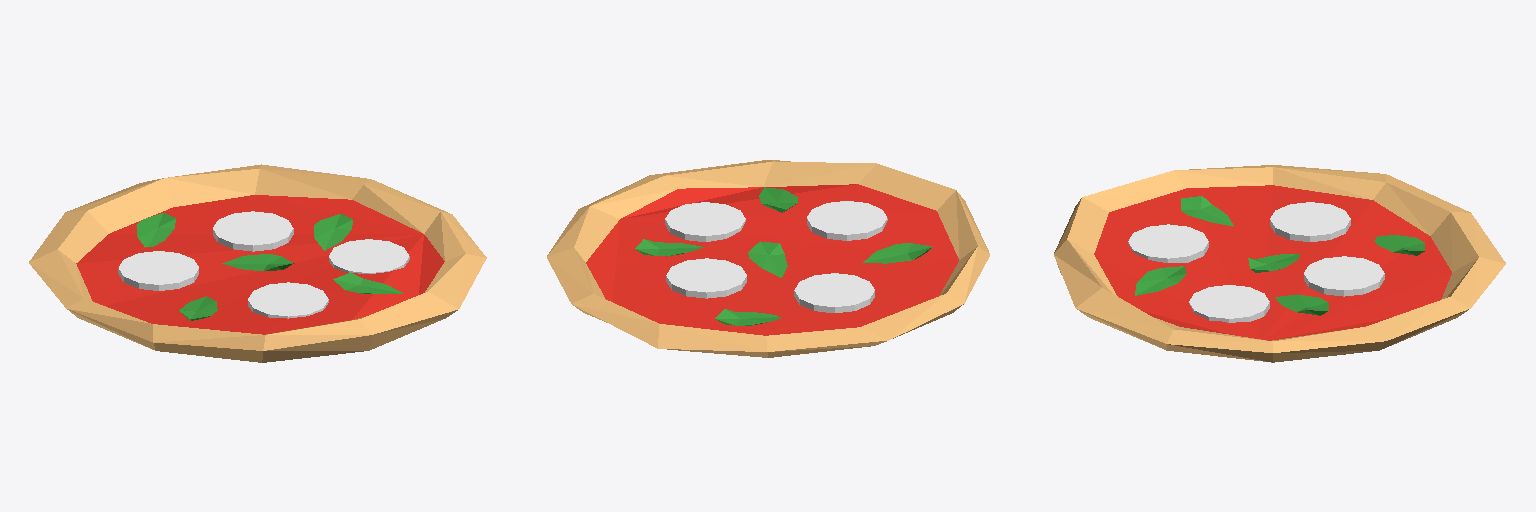
The model's file is pizza.obj.
3 renders of one model, left to right at view 1: azimuth 30°, elevation 25°; view 2: azimuth 150°, elevation 25°; view 3: azimuth 270°, elevation 25°, orthographic.
Parts seen in each view (by area): view 1: group[number redacted], group[number redacted], group[number redacted], group[number redacted], group[number redacted], group[number redacted], group[number redacted], group[number redacted], group[number redacted], group[number redacted]; view 2: group[number redacted], group[number redacted], group[number redacted], group[number redacted], group[number redacted], group[number redacted], group[number redacted], group[number redacted], group[number redacted], group[number redacted]; view 3: group[number redacted], group[number redacted], group[number redacted], group[number redacted], group[number redacted], group[number redacted], group[number redacted], group[number redacted], group[number redacted], group[number redacted].
Boxes of the visible parts, box(x1,y1,x2,y2) form: group[number redacted]: box(29, 164, 486, 362); group[number redacted]: box(213, 211, 293, 251); group[number redacted]: box(118, 251, 198, 290); group[number redacted]: box(248, 282, 328, 318); group[number redacted]: box(329, 239, 409, 273); group[number redacted]: box(314, 214, 352, 250); group[number redacted]: box(136, 213, 175, 247); group[number redacted]: box(222, 254, 293, 270); group[number redacted]: box(333, 272, 403, 293); group[number redacted]: box(178, 296, 217, 320); group[number redacted]: box(547, 160, 989, 357); group[number redacted]: box(794, 273, 874, 312); group[number redacted]: box(666, 258, 746, 298); group[number redacted]: box(807, 201, 887, 240); group[number redacted]: box(665, 202, 745, 241); group[number redacted]: box(748, 241, 787, 277); group[number redacted]: box(863, 243, 932, 263); group[number redacted]: box(635, 239, 703, 256); group[number redacted]: box(715, 309, 780, 325); group[number redacted]: box(759, 187, 797, 212); group[number redacted]: box(1054, 165, 1505, 362); group[number redacted]: box(1304, 256, 1384, 296); group[number redacted]: box(1270, 202, 1350, 241); group[number redacted]: box(1128, 224, 1208, 262); group[number redacted]: box(1189, 285, 1269, 322); group[number redacted]: box(1135, 266, 1186, 295); group[number redacted]: box(1181, 196, 1233, 226); group[number redacted]: box(1275, 294, 1328, 315); group[number redacted]: box(1374, 235, 1424, 255); group[number redacted]: box(1248, 254, 1299, 272).
Bounding box in the file's own units: 0.66 × 0.05 × 0.67.